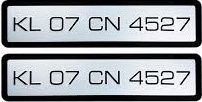character: (103, 16, 120, 32), (104, 69, 120, 85), (12, 69, 27, 86), (128, 16, 143, 32), (88, 16, 103, 31), (144, 16, 159, 31), (175, 16, 190, 31), (88, 70, 103, 85), (175, 70, 190, 85), (13, 16, 27, 32), (49, 16, 63, 32), (49, 69, 63, 85), (160, 70, 174, 86), (64, 16, 78, 31), (65, 70, 79, 85), (144, 70, 158, 85), (160, 16, 173, 31), (129, 70, 142, 85), (28, 16, 40, 32), (28, 70, 40, 85)
